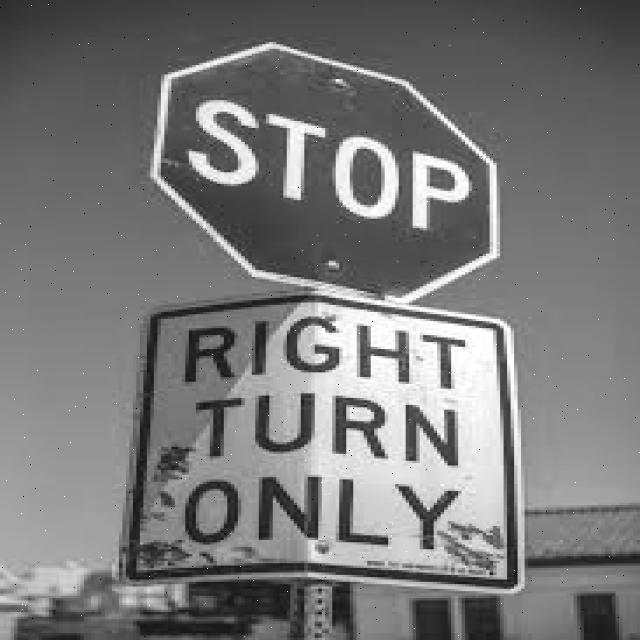stop sign: (158, 39, 513, 306)
